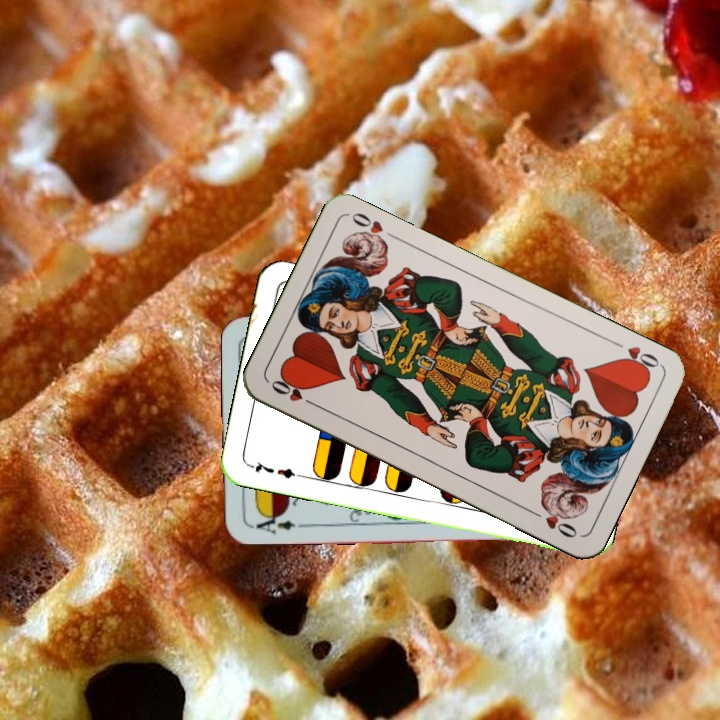E7: (245, 457, 304, 482)
EA: (247, 509, 306, 536)
HO: (267, 376, 321, 410), (614, 342, 664, 377)
